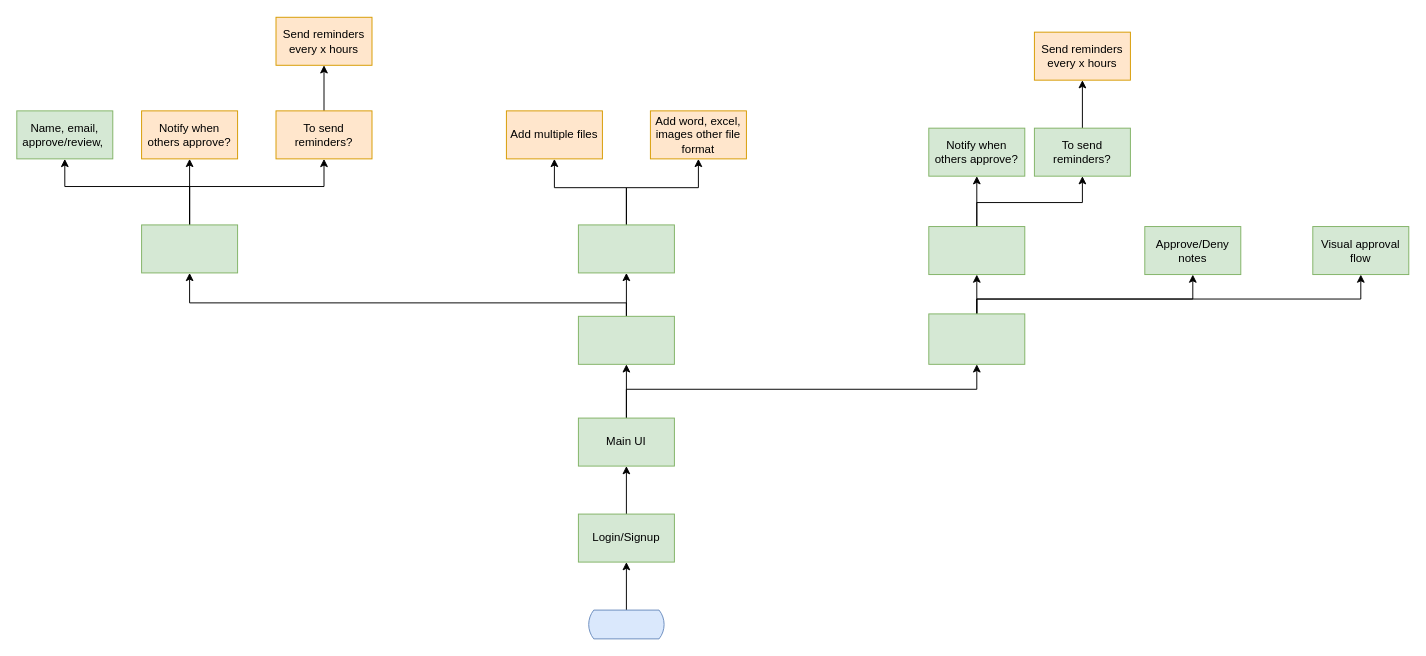
Some shapes in this 1426 by 656 pixel diagram are drawn without their labels. Here are the shapes that lost their labels. From the top down, the centre of each, then its label:
At point 189,248: "Add approvers".
At point 625,248: "Add pdf file".
At point 976,250: "General notification settings".
At point 625,339: "Add new approval flow".
At point 976,338: "Settings".
At point 626,624: "ApproveIt".
